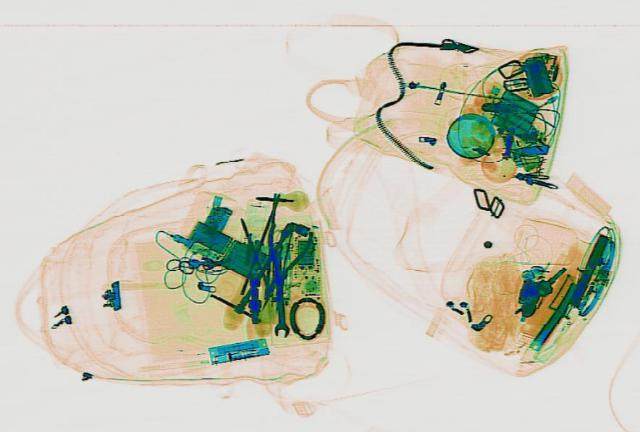Pliers: (229, 215, 313, 309)
Wrench: (268, 241, 290, 336)
